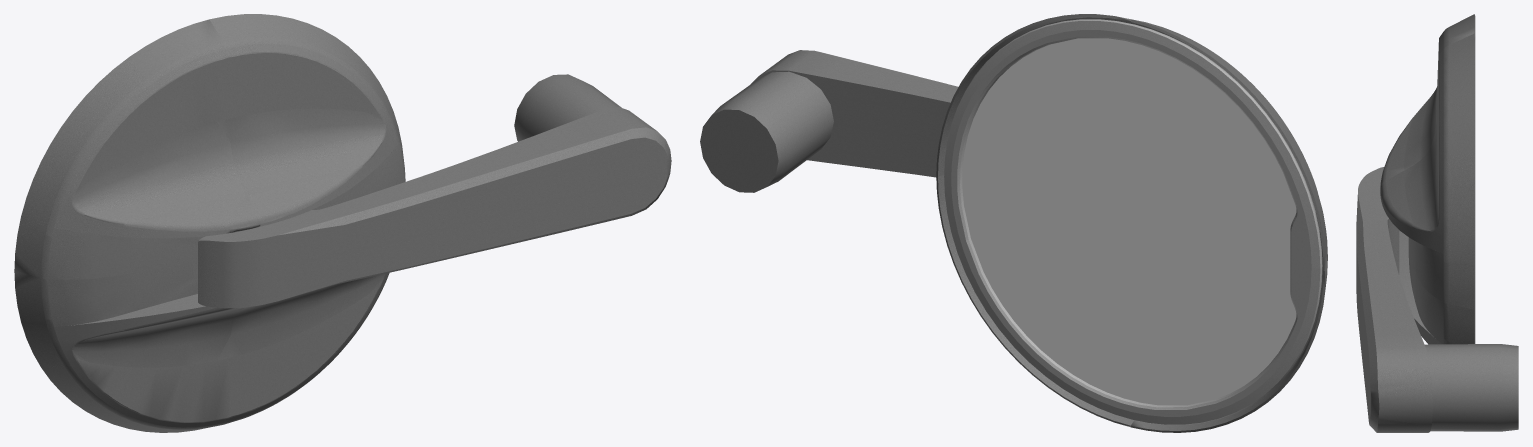
File: DL 50 Mini.obj
3 views of the same model, side by side, from view 1: azimuth 30°, elevation 25°; view 2: azimuth 150°, elevation 25°; view 3: azimuth 270°, elevation 25° (orthographic). The views are drawn at different scales.
Parts seen in each view (by area): view 1: Siteco_DL_50_Mini_DL_50_Mini; view 2: Siteco_DL_50_Mini_DL_50_Mini; view 3: Siteco_DL_50_Mini_DL_50_Mini.
Part boxes in pixels (x1,y1,x2,y2): Siteco_DL_50_Mini_DL_50_Mini: [14, 14, 671, 432]; Siteco_DL_50_Mini_DL_50_Mini: [700, 14, 1327, 432]; Siteco_DL_50_Mini_DL_50_Mini: [1356, 14, 1518, 432].
Bounding box in the file's own units: 0.7764 × 0.5 × 0.1955.
Materials: 3 (3 with a texture image).
